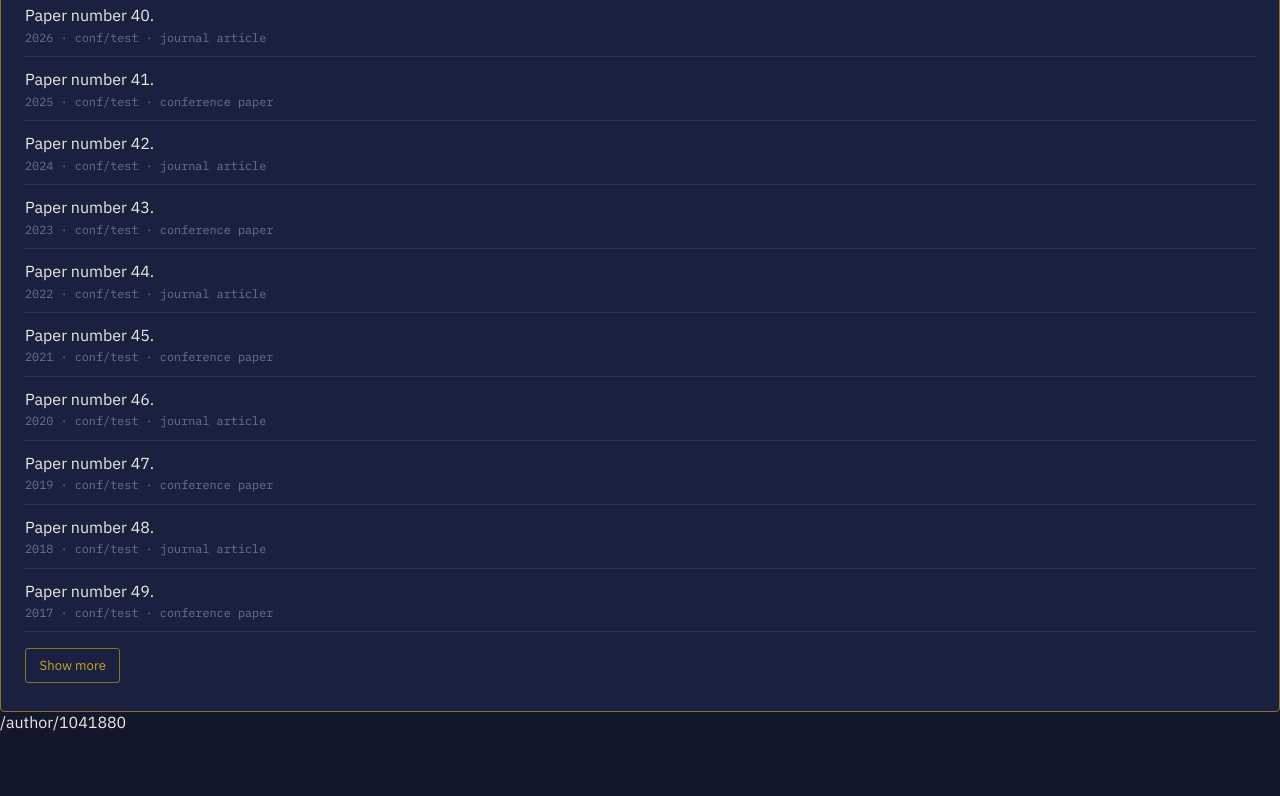
AuthorPage › pages through a long publication list with "Show more"
(page scrolled)
Click the button "Show more". click: (73, 666)
box: [25,648,120,684]
(page scrolled)
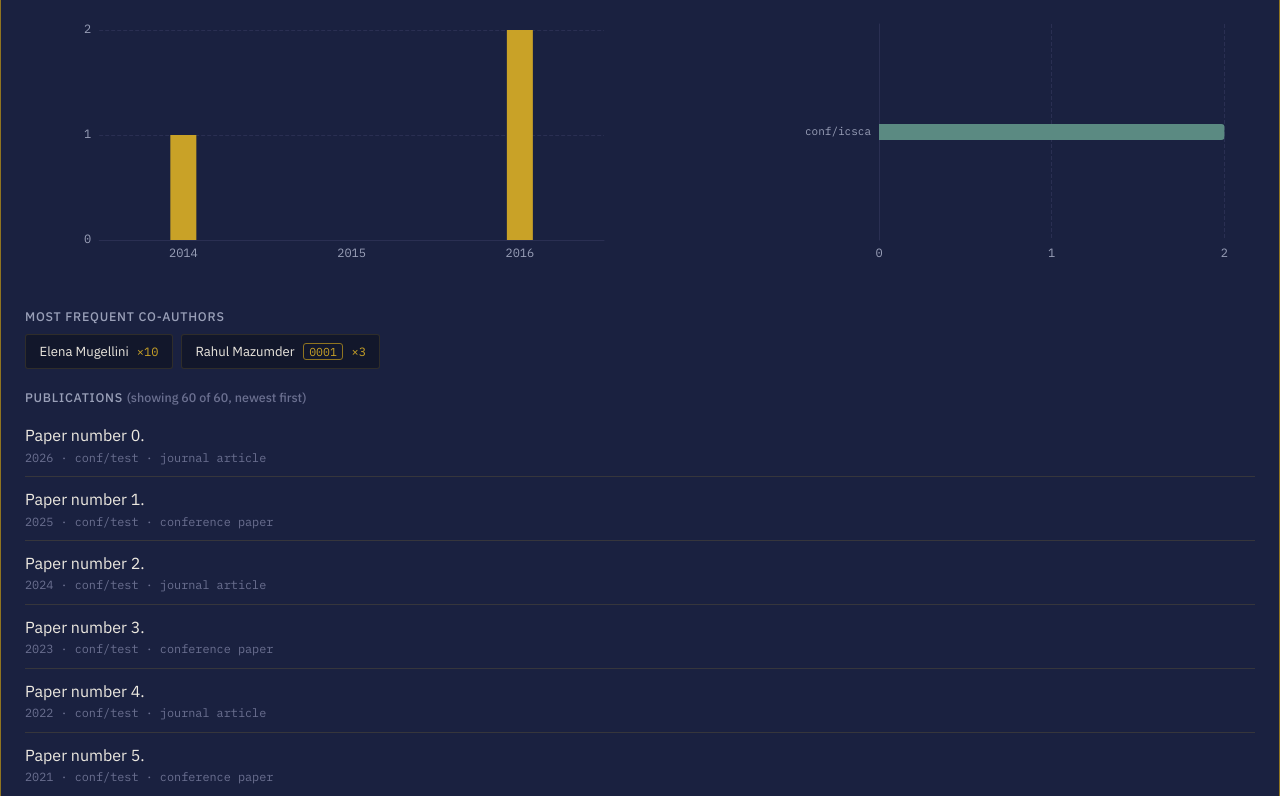
Check: the button "Show more" is gone
